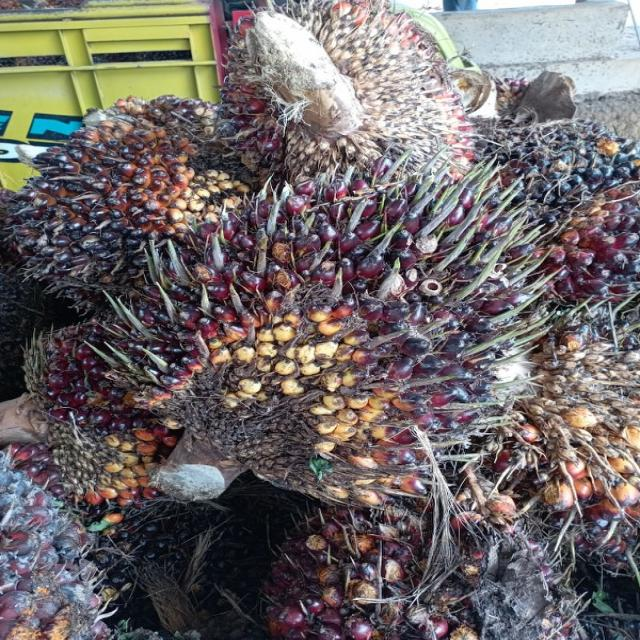fraksi 00: (135, 163, 546, 508), (0, 102, 282, 303)
